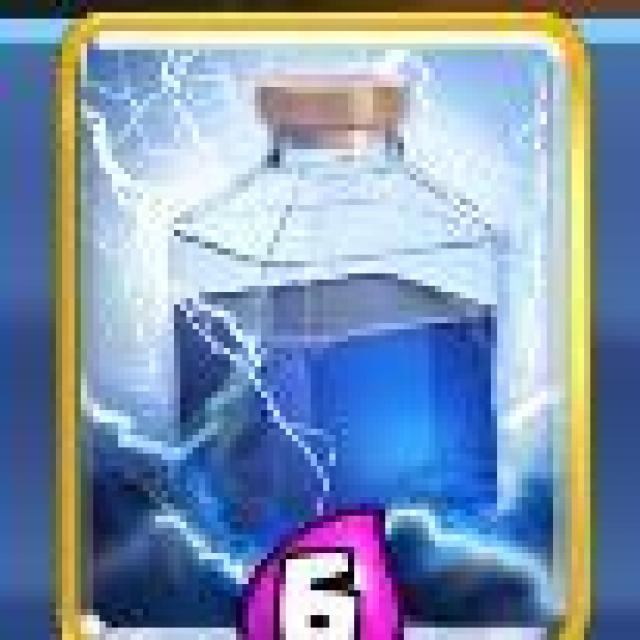Lightning: (61, 13, 586, 640)
